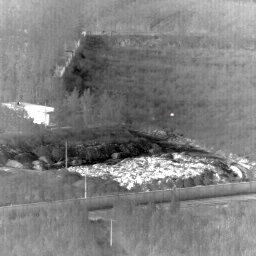Target: (169, 112, 175, 118)
